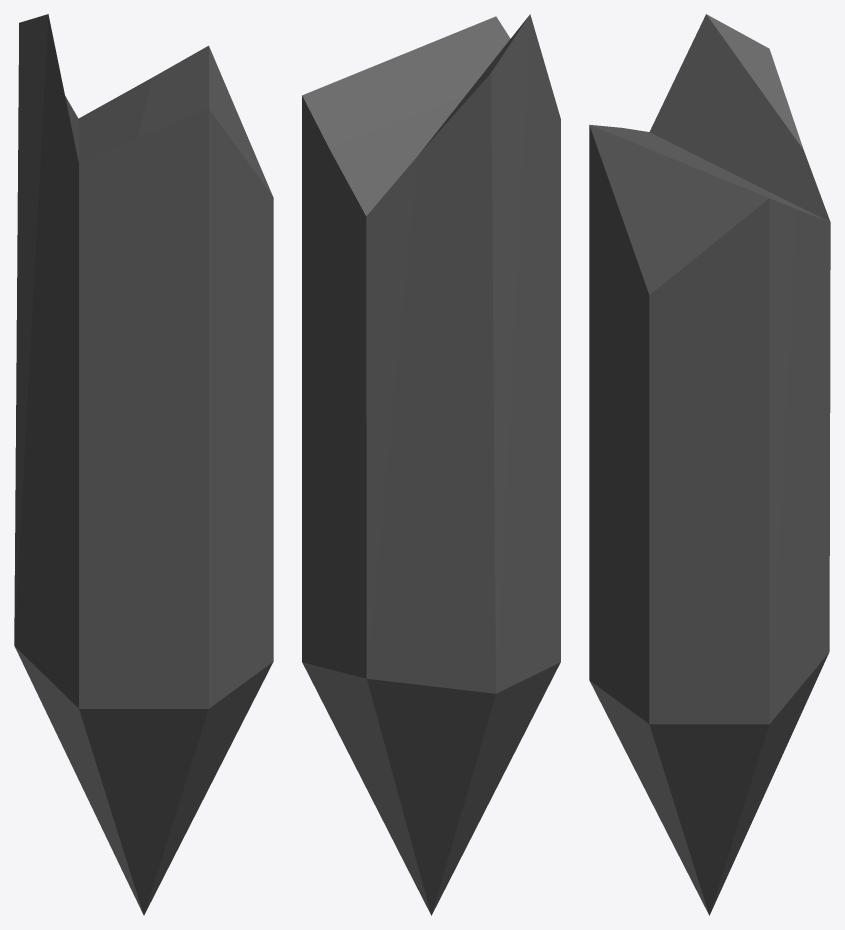
File: nail_2_bottom.FBX
3 views of the same model, side by side, from view 1: azimuth 30°, elevation 25°; view 2: azimuth 150°, elevation 25°; view 3: azimuth 270°, elevation 25° (orthographic). The views are drawn at different scales.
Parts seen in each view (by area): view 1: nail_low_poly_d_2; view 2: nail_low_poly_d_2; view 3: nail_low_poly_d_2.
Boxes of the visible parts, x1=… form: nail_low_poly_d_2: x1=14, y1=14, x2=273, y2=915; nail_low_poly_d_2: x1=302, y1=14, x2=560, y2=915; nail_low_poly_d_2: x1=589, y1=14, x2=830, y2=915.
Size of the model in its own units: 6.3 by 28.67 by 7.31.
1 material, 1 textured.
